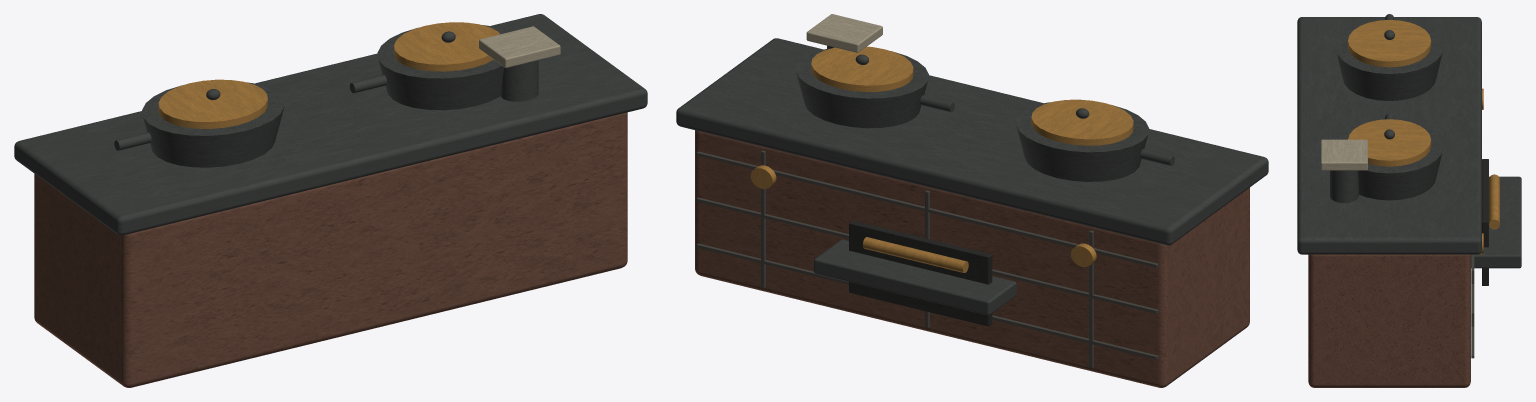
The model's file is kitchen_stove.glb.
3 renders of one model, left to right at view 1: azimuth 30°, elevation 25°; view 2: azimuth 150°, elevation 25°; view 3: azimuth 270°, elevation 25°, orthographic. The views are drawn at different scales.
Parts seen in each view (by area): view 1: kitchen_stove; view 2: kitchen_stove; view 3: kitchen_stove.
Boxes of the visible parts, bbox=[...] form: kitchen_stove: bbox=[14, 14, 647, 387]; kitchen_stove: bbox=[676, 14, 1268, 387]; kitchen_stove: bbox=[1297, 14, 1521, 387].
Bounding box in the file's own units: 2.6 × 1.1 × 1.1.
Materials: 1 (1 with a texture image).
